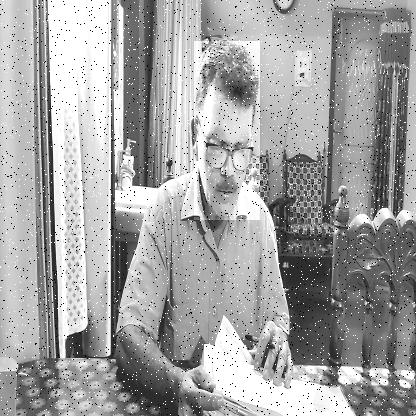Normal: (194, 41, 260, 220)
